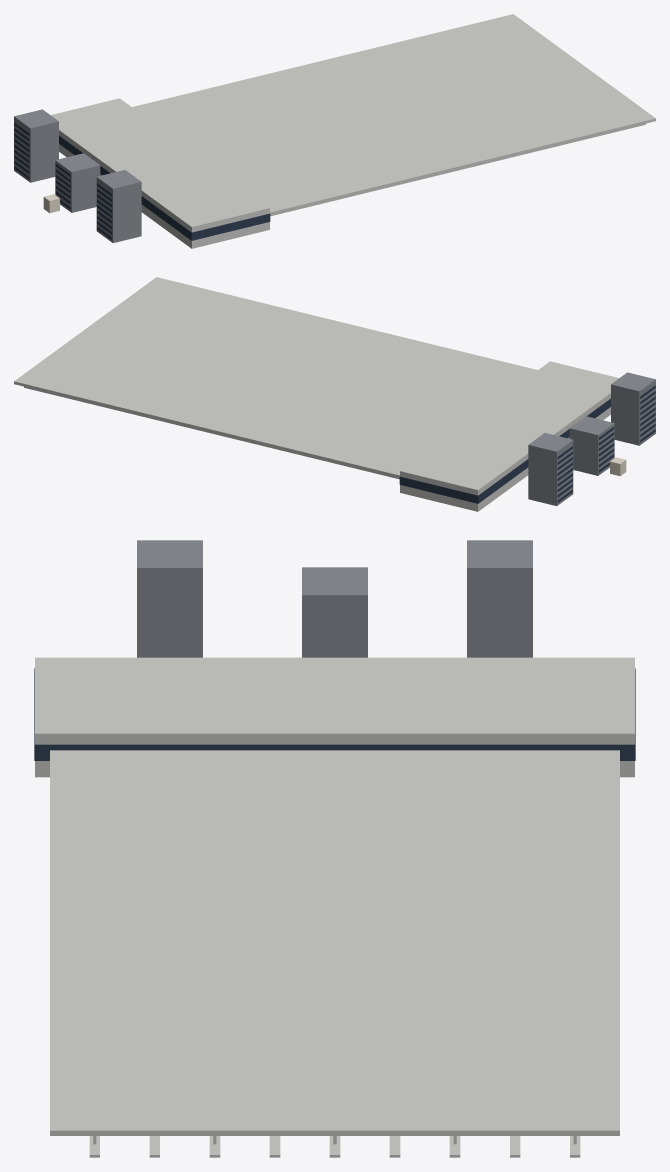
The model's file is terminal_euston.glb.
The picture shows the model from 3 angles, top to bottom: view 1: azimuth 30°, elevation 25°; view 2: azimuth 150°, elevation 25°; view 3: azimuth 270°, elevation 25°; orthographic projection. The views are drawn at different scales.
Visible parts, largest first — view 1: euston; view 2: euston; view 3: euston.
Boxes of the visible parts, x1,y1,x2,y2 form: euston: (14, 14, 655, 248); euston: (14, 277, 655, 511); euston: (34, 540, 635, 1157).
Bounding box in the file's own units: 414 × 40 × 200.
